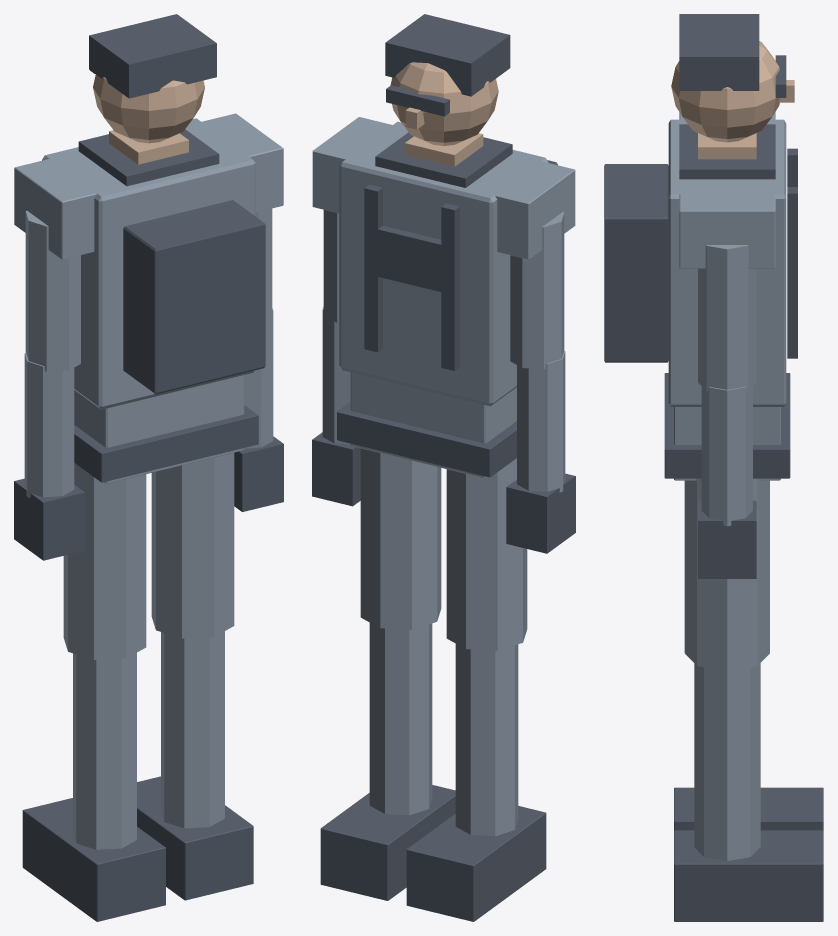
The model's file is char_crew_blockout.glb.
3 renders of one model, left to right at view 1: azimuth 30°, elevation 25°; view 2: azimuth 150°, elevation 25°; view 3: azimuth 270°, elevation 25°, orthographic. The views are drawn at different scales.
Parts seen in each view (by area): view 1: crew_suit, crew_gear, crew_skin; view 2: crew_suit, crew_gear, crew_skin; view 3: crew_suit, crew_gear, crew_skin.
Part boxes in pixels (x1,y1,x2,y2): crew_suit: (14,113,283,849); crew_gear: (14,14,283,921); crew_skin: (93,74,204,164); crew_suit: (312,117,575,836); crew_gear: (312,14,575,921); crew_skin: (390,62,498,166); crew_suit: (668,112,786,860); crew_gear: (604,14,823,921); crew_skin: (671,41,794,159).
Size of the model in its own units: 0.526 by 1.75 by 0.41.
